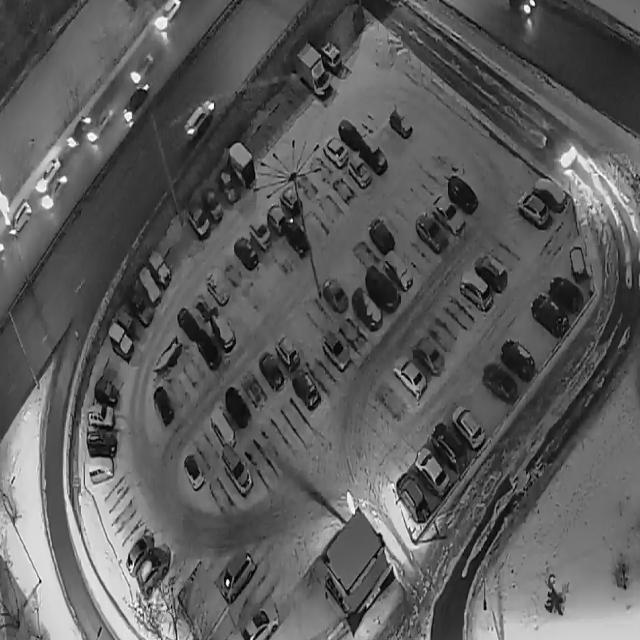car: (294, 40, 332, 102), (220, 546, 257, 608), (430, 419, 470, 474), (135, 542, 170, 602), (394, 471, 431, 525), (415, 444, 451, 499), (364, 264, 402, 315), (529, 292, 568, 341), (241, 594, 281, 640), (121, 76, 154, 130), (481, 361, 518, 409), (499, 337, 536, 384), (184, 96, 218, 147), (221, 444, 253, 498), (393, 352, 428, 400), (452, 404, 487, 452), (410, 332, 446, 378), (430, 193, 467, 237), (457, 270, 494, 313), (126, 528, 156, 581), (226, 140, 256, 193), (473, 252, 508, 296), (415, 210, 449, 255), (548, 274, 584, 316), (531, 174, 568, 214), (351, 287, 383, 333), (446, 173, 479, 217), (208, 406, 238, 452), (383, 250, 414, 294), (125, 284, 154, 331), (515, 190, 549, 230), (291, 367, 321, 412), (366, 214, 396, 259), (85, 103, 114, 149), (322, 329, 352, 373), (359, 134, 389, 178), (224, 384, 252, 429), (258, 348, 285, 394), (34, 153, 62, 197), (196, 326, 222, 372), (66, 110, 92, 155), (9, 195, 33, 243), (41, 172, 69, 213), (136, 265, 162, 309), (185, 198, 211, 242), (316, 37, 343, 79), (322, 274, 349, 315), (108, 322, 134, 364), (284, 218, 310, 260), (337, 116, 364, 156), (147, 249, 172, 292), (321, 133, 350, 170), (275, 333, 301, 374), (152, 382, 175, 428), (86, 428, 118, 461), (234, 232, 259, 274), (204, 268, 230, 308), (346, 152, 373, 190), (211, 312, 236, 353), (182, 451, 206, 493), (201, 184, 224, 227), (176, 306, 202, 344), (248, 213, 273, 252), (278, 183, 303, 220), (155, 0, 181, 35), (217, 167, 239, 207), (265, 200, 288, 238), (87, 403, 116, 433), (93, 378, 120, 410), (388, 106, 413, 140), (88, 456, 115, 487)
